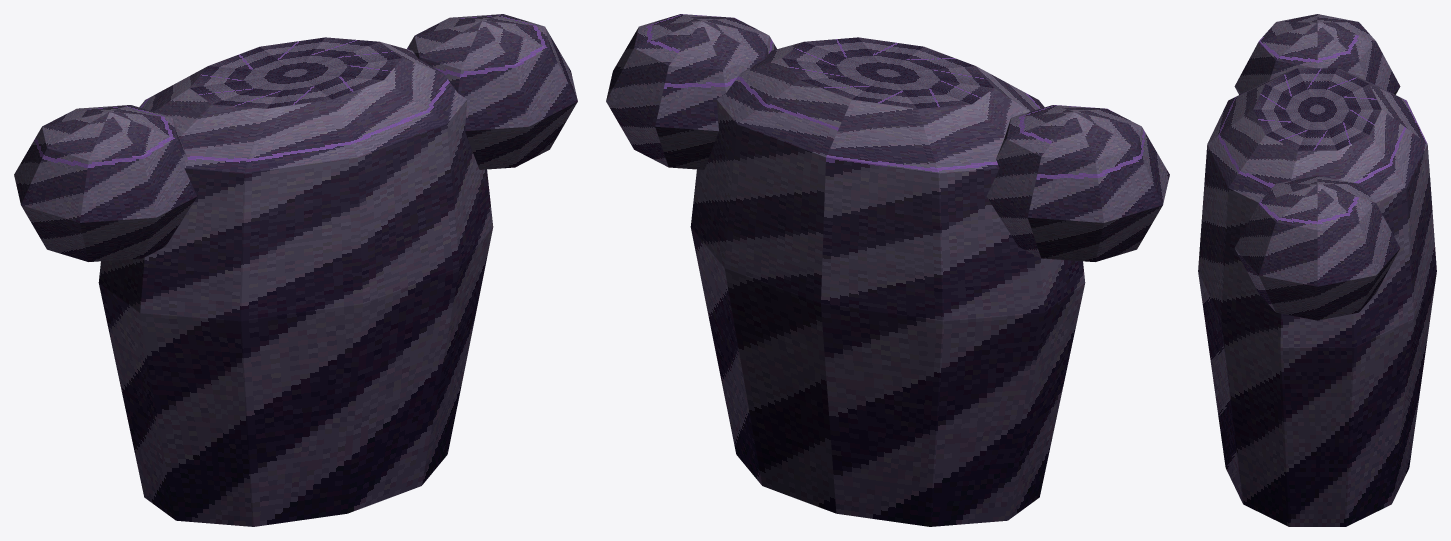
Rendered from peitoral_de_obsidiana.glb.
The picture shows the model from 3 angles, left to right: view 1: azimuth 30°, elevation 25°; view 2: azimuth 150°, elevation 25°; view 3: azimuth 270°, elevation 25°; orthographic projection. The views are drawn at different scales.
Visible parts, largest first — view 1: peitoral_de_obsidiana; view 2: peitoral_de_obsidiana; view 3: peitoral_de_obsidiana.
Part boxes in pixels (bbox=[...]): peitoral_de_obsidiana: bbox=[14, 14, 577, 526]; peitoral_de_obsidiana: bbox=[606, 14, 1169, 526]; peitoral_de_obsidiana: bbox=[1198, 14, 1436, 526].
Size of the model in its own units: 0.886 by 0.6305 by 0.3744.
1 material, 1 textured.
